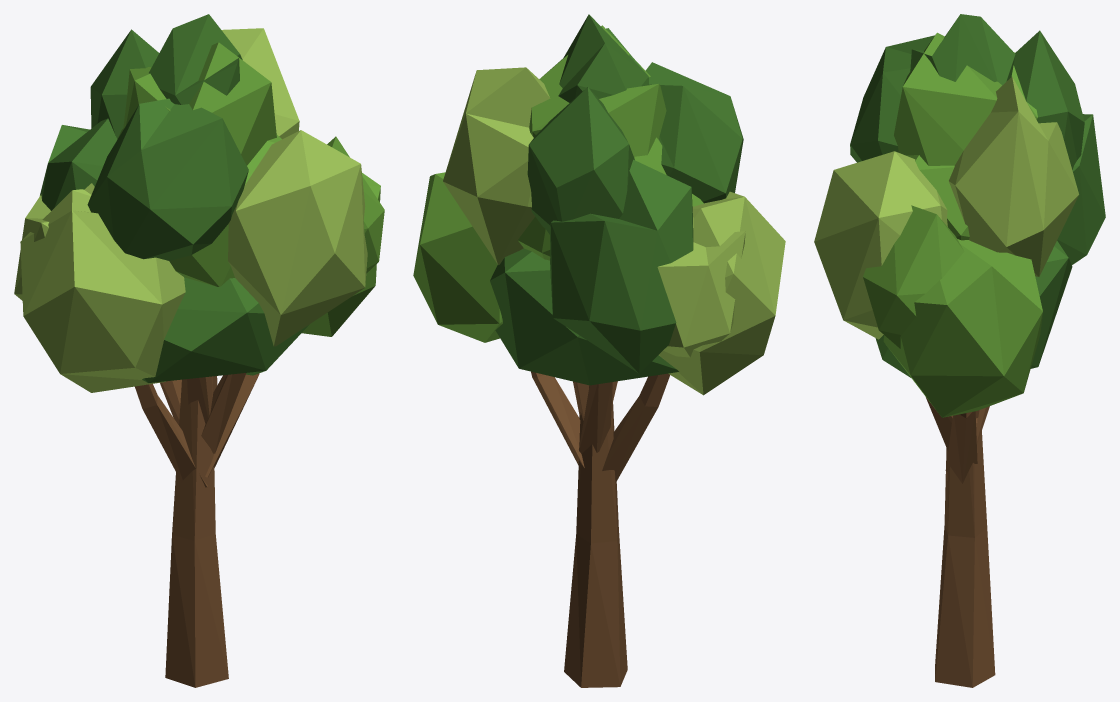
3 views of the same model, side by side, from view 1: azimuth 30°, elevation 25°; view 2: azimuth 150°, elevation 25°; view 3: azimuth 270°, elevation 25° (orthographic).
Parts seen in each view (by area): view 1: WK_InnerKeepTree_CourtyardLinden_Teardrop_LOD1_Balanced; view 2: WK_InnerKeepTree_CourtyardLinden_Teardrop_LOD1_Balanced; view 3: WK_InnerKeepTree_CourtyardLinden_Teardrop_LOD1_Balanced.
Part boxes in pixels (bbox=[...]): WK_InnerKeepTree_CourtyardLinden_Teardrop_LOD1_Balanced: bbox=[14, 14, 384, 687]; WK_InnerKeepTree_CourtyardLinden_Teardrop_LOD1_Balanced: bbox=[413, 14, 785, 687]; WK_InnerKeepTree_CourtyardLinden_Teardrop_LOD1_Balanced: bbox=[814, 14, 1105, 687].
Bounding box in the file's own units: 2.9 × 5.2 × 2.06.
